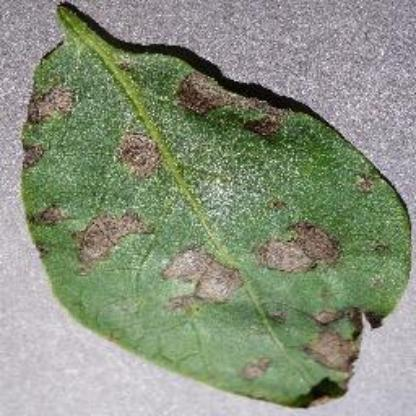Early-Blight: (23, 6, 409, 406)
